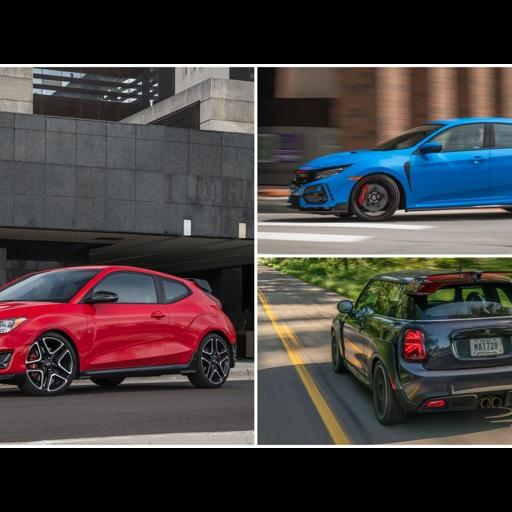hatchback: (0, 265, 236, 393), (332, 269, 511, 422), (289, 118, 512, 220)
